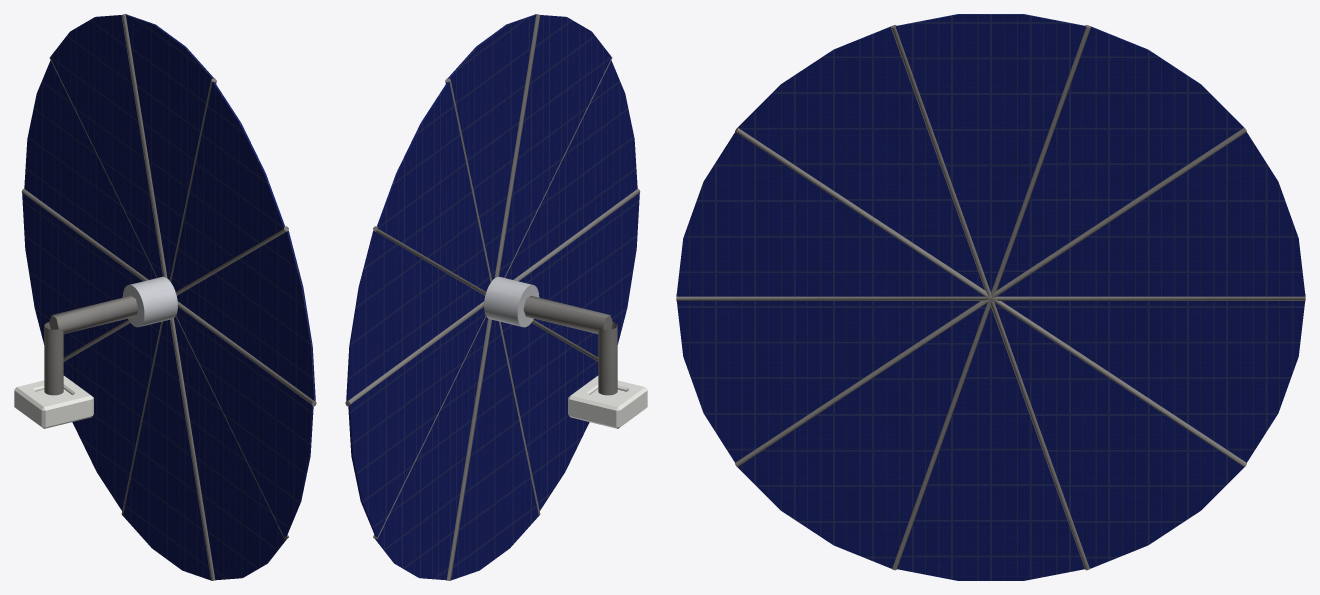
The model's file is ax_power_03_fan_array_s_deployed.glb.
3 views of the same model, side by side, from view 1: azimuth 30°, elevation 25°; view 2: azimuth 150°, elevation 25°; view 3: azimuth 270°, elevation 25° (orthographic). The views are drawn at different scales.
Visible parts, largest first — view 1: petal_1, petal_9, petal_7, petal_10, petal_3, petal_8, petal_2, petal_6, petal_4, petal_5, spars, yoke (+2 smaller); view 2: petal_5, petal_7, petal_9, petal_6, petal_3, petal_8, petal_4, petal_10, petal_2, petal_1, spars, yoke (+2 smaller); view 3: petal_8, petal_6, petal_10, petal_2, petal_4, petal_7, petal_9, petal_3, petal_1, petal_5, spars.
Boxes of the visible parts, x1=… form: petal_1: x1=176, y1=307, x2=313, y2=537; petal_9: x1=171, y1=82, x2=284, y2=291; petal_7: x1=50, y1=15, x2=162, y2=277; petal_10: x1=177, y1=231, x2=315, y2=400; petal_3: x1=123, y1=320, x2=210, y2=580; petal_8: x1=126, y1=14, x2=214, y2=280; petal_2: x1=174, y1=317, x2=286, y2=580; petal_6: x1=24, y1=60, x2=156, y2=279; petal_4: x1=63, y1=322, x2=160, y2=510; petal_5: x1=22, y1=193, x2=142, y2=356; spars: x1=21, y1=14, x2=316, y2=580; yoke: x1=44, y1=295, x2=138, y2=395; petal_5: x1=348, y1=307, x2=485, y2=537; petal_7: x1=377, y1=82, x2=490, y2=291; petal_9: x1=499, y1=15, x2=611, y2=277; petal_6: x1=346, y1=231, x2=484, y2=400; petal_3: x1=451, y1=320, x2=538, y2=580; petal_8: x1=447, y1=14, x2=535, y2=280; petal_4: x1=375, y1=317, x2=487, y2=580; petal_10: x1=505, y1=60, x2=637, y2=279; petal_2: x1=501, y1=322, x2=598, y2=510; petal_1: x1=519, y1=193, x2=639, y2=356; spars: x1=345, y1=14, x2=640, y2=580; yoke: x1=523, y1=295, x2=617, y2=395; petal_8: x1=896, y1=14, x2=1085, y2=291; petal_6: x1=997, y1=132, x2=1305, y2=296; petal_10: x1=676, y1=132, x2=984, y2=296; petal_2: x1=738, y1=303, x2=987, y2=568; petal_4: x1=994, y1=303, x2=1243, y2=568; petal_7: x1=997, y1=26, x2=1243, y2=289; petal_9: x1=738, y1=26, x2=984, y2=289; petal_3: x1=897, y1=307, x2=1084, y2=580; petal_1: x1=676, y1=301, x2=980, y2=462; petal_5: x1=1001, y1=301, x2=1305, y2=462; spars: x1=676, y1=25, x2=1305, y2=570.
Size of the model in its own units: 0.687 by 2.39 by 2.4.
Materials: 4 (3 with a texture image).
